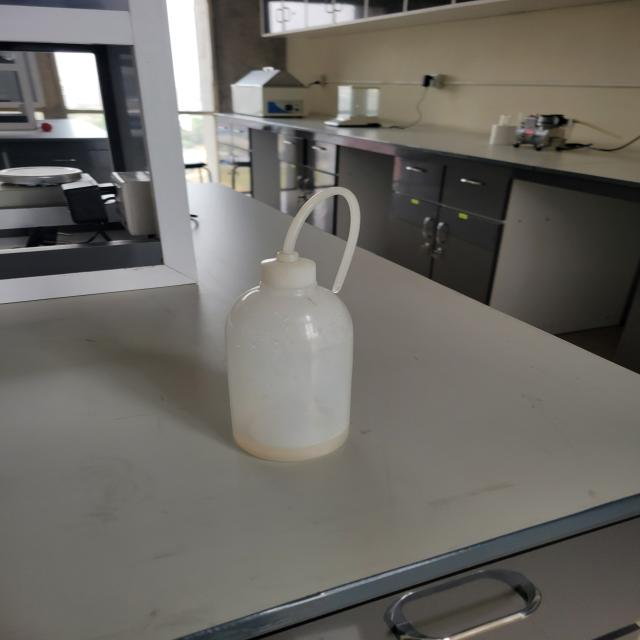Wash_Bottle: (180, 174, 423, 514)
